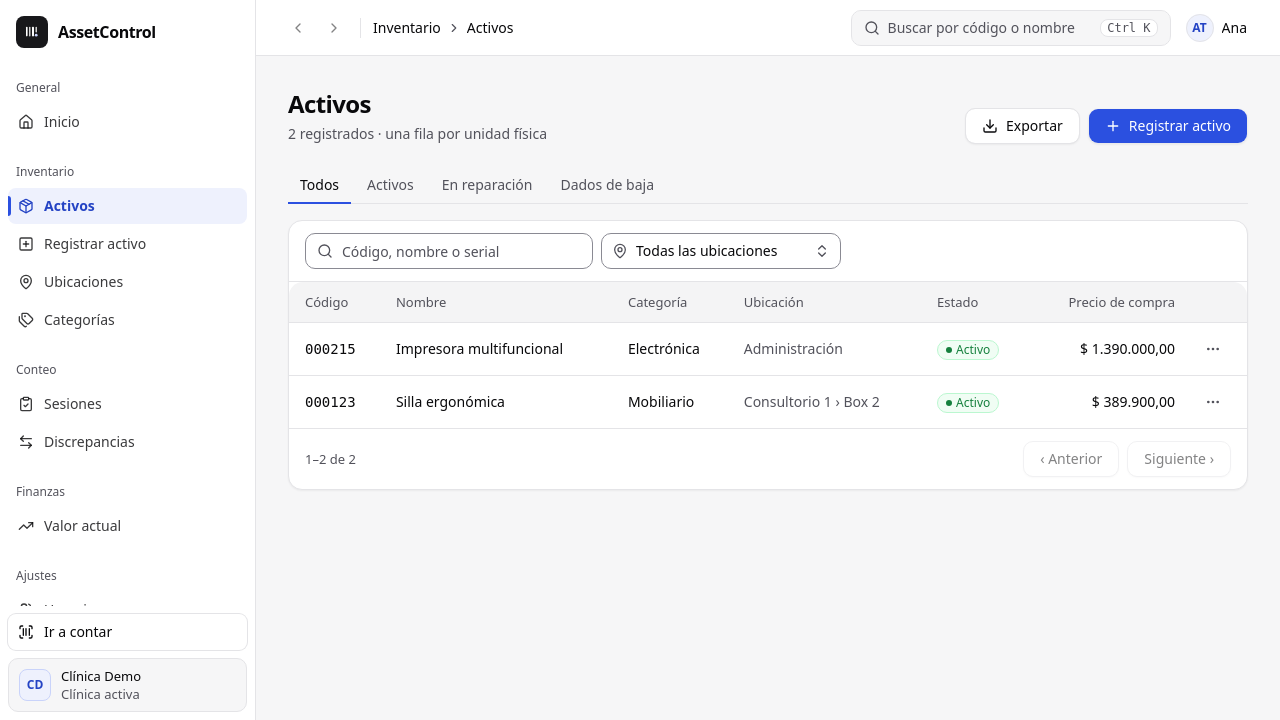
Scenario: /admin/activos › el menú de cada fila abre la ficha con la acción (spec 005, T8)
This screenshot has width=1280, height=720.
Press Enter in the button named "Acciones de Silla ergonómica (000123)", box [1195,384,1231,420]
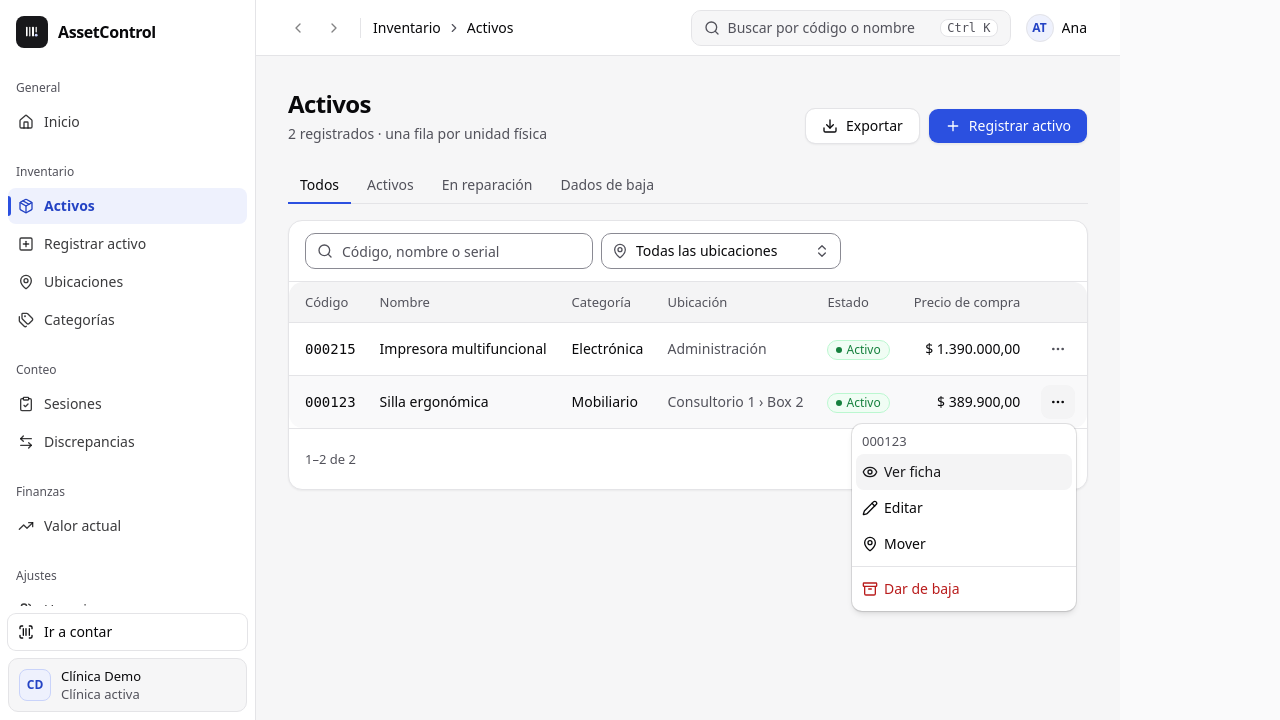
Expected: the menu items read "Ver ficha", "Editar", "Mover", "Dar de baja", in this order
Click the menu item "Mover" at (894, 544), box [862,534,926,553]
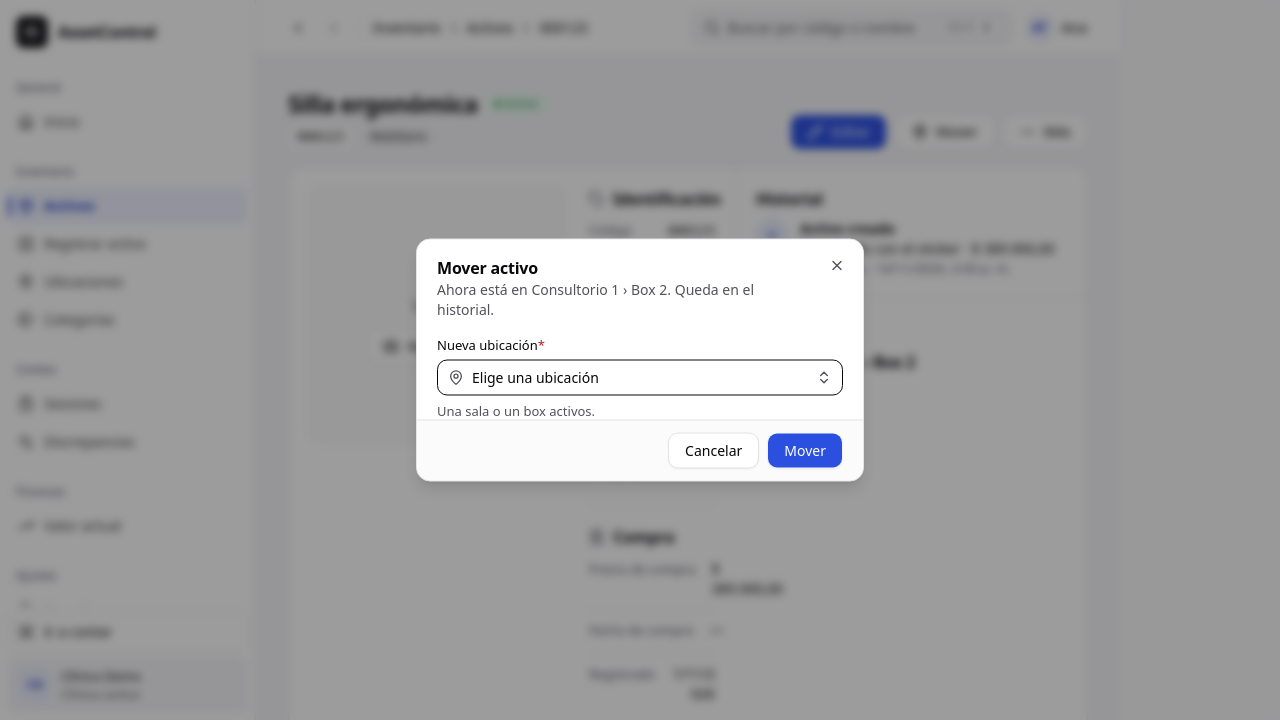
Expected: the dialog "Mover activo" is shown, [416,238,864,482]
